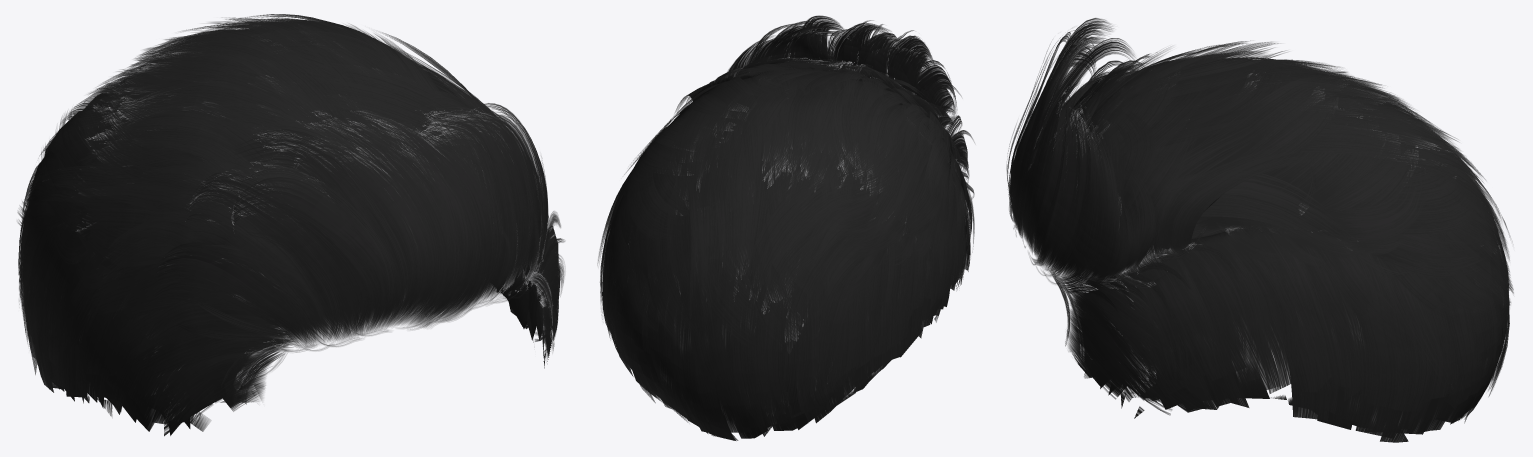
The model's file is Oval_Wavy_02.glb.
3 renders of one model, left to right at view 1: azimuth 30°, elevation 25°; view 2: azimuth 150°, elevation 25°; view 3: azimuth 270°, elevation 25°, orthographic. The views are drawn at different scales.
Visible parts, largest first — view 1: oval wavy 02 quiff; view 2: oval wavy 02 quiff; view 3: oval wavy 02 quiff.
Part boxes in pixels (box(x1,y1,x2,y2)): oval wavy 02 quiff: box(17, 14, 564, 436); oval wavy 02 quiff: box(597, 15, 974, 440); oval wavy 02 quiff: box(1006, 18, 1513, 442).
Bounding box in the file's own units: 0.1919 × 0.1915 × 0.2337.
1 material, 1 textured.
